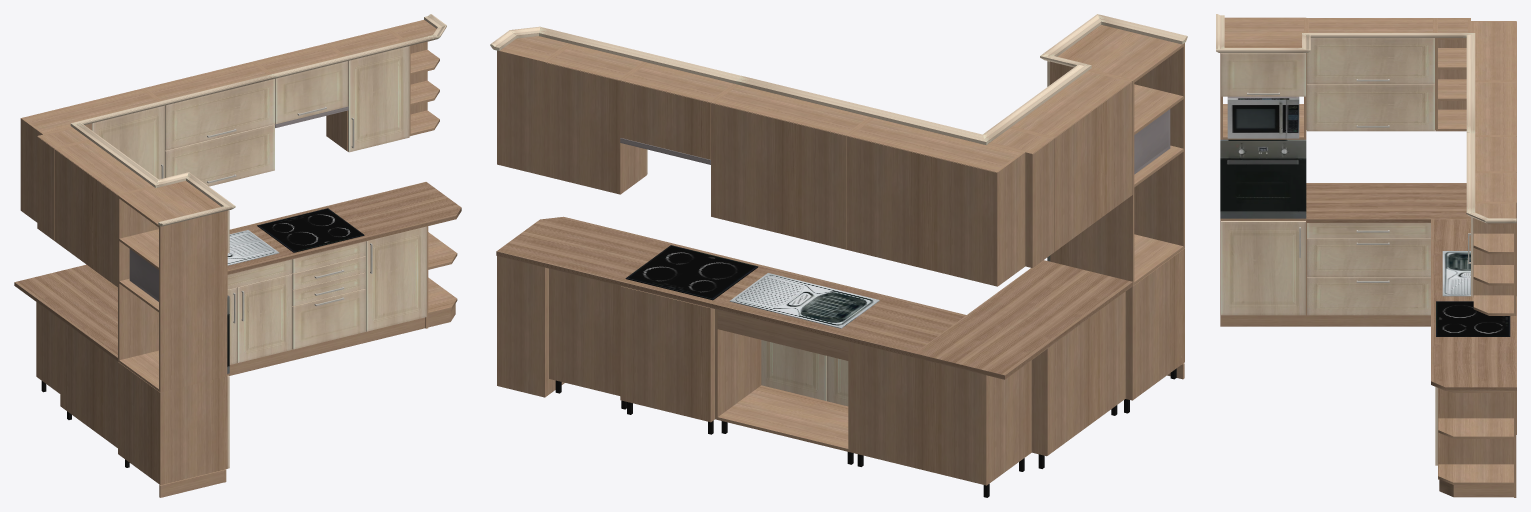
Rendered from kitchen_l.glb.
The picture shows the model from 3 angles, left to right: view 1: azimuth 30°, elevation 25°; view 2: azimuth 150°, elevation 25°; view 3: azimuth 270°, elevation 25°; orthographic projection. The views are drawn at different scales.
Visible parts, largest first — view 1: Object_2, Object_17, Object_6, Object_29, Object_13, Object_27, Object_10, Object_9, Object_5, Object_3, Object_31, Object_19 (+8 smaller); view 2: Object_2, Object_17, Object_27, Object_20, Object_19, Object_9, Object_21, Object_25, Object_8; view 3: Object_2, Object_17, Object_28, Object_18, Object_33, Object_4, Object_30, Object_7, Object_27, Object_24, Object_22, Object_19 (+3 smaller).
Boxes of the visible parts, <box> form: Object_2: <box>20,20,457,497</box>; Object_17: <box>14,182,461,361</box>; Object_6: <box>348,46,409,152</box>; Object_29: <box>366,226,426,331</box>; Object_13: <box>165,79,274,150</box>; Object_27: <box>70,14,446,226</box>; Object_10: <box>165,124,274,186</box>; Object_9: <box>237,274,292,362</box>; Object_5: <box>275,61,348,123</box>; Object_3: <box>292,289,365,349</box>; Object_31: <box>92,105,164,179</box>; Object_19: <box>257,208,364,252</box>; Object_2: <box>497,25,1184,485</box>; Object_17: <box>496,216,1132,379</box>; Object_27: <box>490,14,1187,145</box>; Object_20: <box>729,273,879,328</box>; Object_19: <box>625,245,758,300</box>; Object_9: <box>761,340,826,401</box>; Object_21: <box>620,109,1170,174</box>; Object_25: <box>555,368,1176,497</box>; Object_8: <box>827,356,848,406</box>; Object_2: <box>1220,17,1516,497</box>; Object_17: <box>1306,183,1516,390</box>; Object_28: <box>1221,221,1305,315</box>; Object_18: <box>1220,139,1306,218</box>; Object_33: <box>1306,84,1434,131</box>; Object_4: <box>1306,38,1434,84</box>; Object_30: <box>1307,238,1430,276</box>; Object_7: <box>1307,277,1430,315</box>; Object_27: <box>1216,14,1516,223</box>; Object_24: <box>1221,53,1305,96</box>; Object_22: <box>1227,98,1299,138</box>; Object_19: <box>1436,301,1510,336</box>.
Bounding box in the file's own units: 3.3 × 2.09 × 2.03.
Materials: 21 (20 with a texture image).
